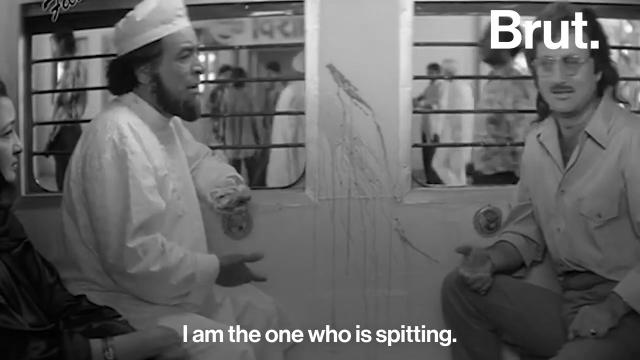spit: (304, 51, 410, 231)
